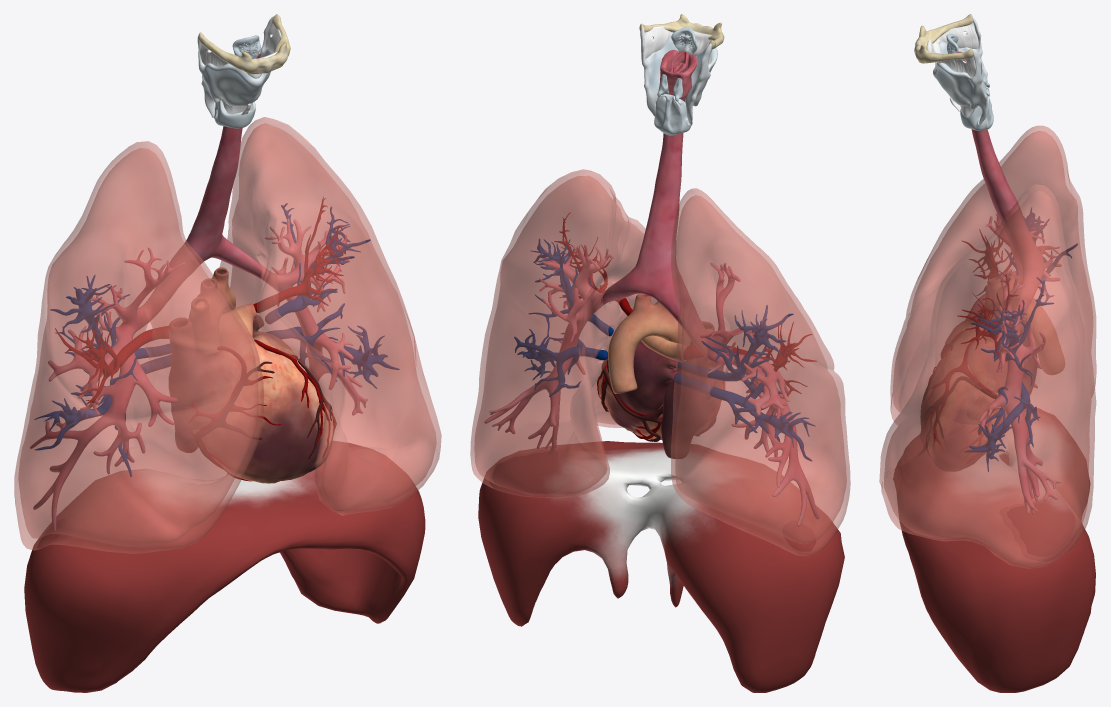
The model's file is heart-lungs.glb.
The picture shows the model from 3 angles, left to right: view 1: azimuth 30°, elevation 25°; view 2: azimuth 150°, elevation 25°; view 3: azimuth 270°, elevation 25°; orthographic projection. The views are drawn at different scales.
Visible parts, largest first — view 1: Right_lung, Diaphragm, Left_lung2, Heart_Animated_Master, Trachea, Pulmonary_veins, Pulmonary_arteries, Thyroid_cartilage, Hyoid_bone, Thyrohyoid_membrane, Cricoid; view 2: Diaphragm, Right_lung, Left_lung2, Trachea, Heart_Animated_Master, Pulmonary_veins, Thyroid_cartilage, Pulmonary_arteries, Cricoid, Larynx, Thyrohyoid_membrane, Hyoid_bone; view 3: Left_lung2, Diaphragm, Right_lung, Heart_Animated_Master, Trachea, Pulmonary_veins, Thyroid_cartilage, Pulmonary_arteries, Hyoid_bone, Thyrohyoid_membrane, Cricoid.
Part boxes in pixels (box(x1,y1,x2,y2)): Right_lung: box(14, 141, 263, 553); Diaphragm: box(24, 441, 425, 692); Left_lung2: box(219, 117, 441, 515); Heart_Animated_Master: box(169, 267, 336, 483); Trachea: box(30, 126, 367, 531); Pulmonary_veins: box(34, 203, 399, 476); Pulmonary_arteries: box(55, 196, 344, 404); Thyroid_cartilage: box(197, 16, 274, 117); Hyoid_bone: box(198, 14, 290, 74); Thyrohyoid_membrane: box(200, 19, 281, 78); Cricoid: box(214, 100, 255, 128); Diaphragm: box(478, 441, 844, 692); Right_lung: box(671, 188, 850, 556); Left_lung2: box(470, 169, 657, 498); Trachea: box(484, 98, 819, 526); Heart_Animated_Master: box(597, 294, 724, 458); Pulmonary_veins: box(514, 238, 815, 461); Thyroid_cartilage: box(640, 27, 717, 125); Pulmonary_arteries: box(554, 212, 816, 398); Cricoid: box(654, 94, 692, 135); Larynx: box(659, 50, 696, 98); Thyrohyoid_membrane: box(644, 26, 712, 63); Hyoid_bone: box(639, 14, 724, 49); Left_lung2: box(879, 184, 1096, 569); Diaphragm: box(893, 408, 1095, 692); Right_lung: box(890, 125, 1096, 425); Heart_Animated_Master: box(920, 273, 1064, 471); Trachea: box(966, 129, 1061, 514); Pulmonary_veins: box(964, 208, 1077, 471); Thyroid_cartilage: box(933, 17, 987, 125); Pulmonary_arteries: box(957, 229, 1018, 361); Hyoid_bone: box(914, 14, 973, 63); Thyrohyoid_membrane: box(926, 20, 978, 76); Cricoid: box(960, 86, 993, 130).
Size of the model in its own units: 0.1111 by 0.1779 by 0.0585.
23 materials, 22 textured.
